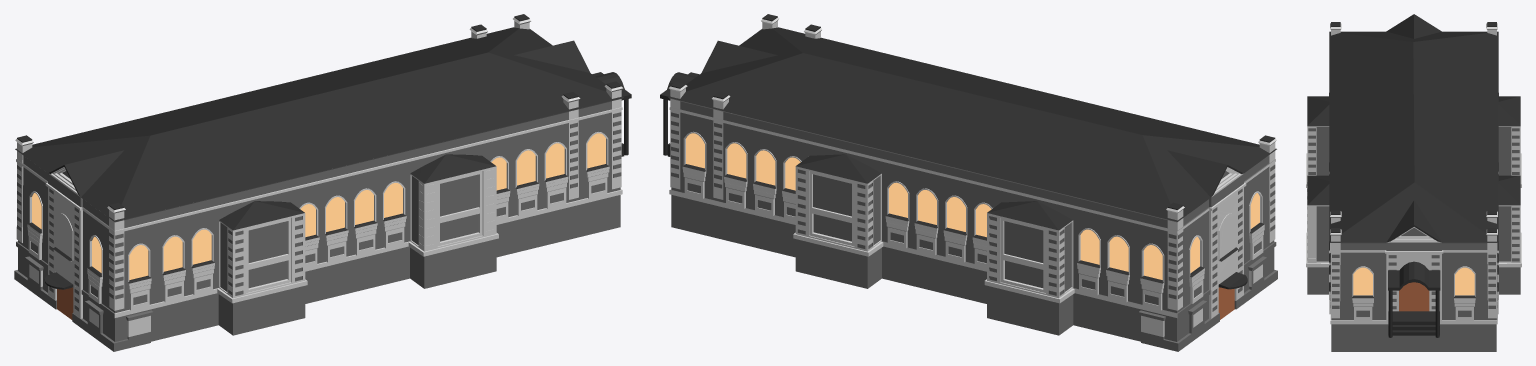
Rendered from manej.gltf.
3 renders of one model, left to right at view 1: azimuth 30°, elevation 25°; view 2: azimuth 150°, elevation 25°; view 3: azimuth 270°, elevation 25°, orthographic. The views are drawn at different scales.
Visible parts, largest first — view 1: Base, Columns, Side Windows 3, Cube.001, Side Windows 2, Small Columns, Side Windows 1, Side Windows 4, Front windows, Bottom Windows, Small Columns.002, Bricks.001 (+4 smaller); view 2: Base, Columns, Side Windows 3, Cube.001, Side Windows 2, Small Columns, Side Windows 1, Side Windows 4, Front windows, Bottom Windows, Small Columns.002, Bricks.001 (+3 smaller); view 3: Base, Columns, Cube.001, Front windows, Small Columns, Cube.005, Stairs, Door, Bricks.001, Cylinder, Bricks, Small Columns.002 (+1 smaller).
Part boxes in pixels (x1,y1,x2,y2): Base: (15, 27, 623, 341); Columns: (217, 154, 498, 335); Side Windows 3: (299, 181, 406, 267); Cube.001: (45, 40, 590, 289); Side Windows 2: (490, 142, 568, 221); Small Columns: (15, 14, 623, 310); Side Windows 1: (128, 132, 609, 310); Side Windows 4: (162, 228, 214, 302); Front windows: (27, 191, 102, 303); Bottom Windows: (14, 256, 116, 351); Small Columns.002: (469, 24, 580, 199); Bricks.001: (17, 112, 621, 299); Base: (668, 27, 1276, 341); Columns: (793, 154, 1074, 335); Side Windows 3: (885, 181, 992, 267); Cube.001: (701, 40, 1246, 289); Side Windows 2: (724, 142, 801, 221); Small Columns: (669, 14, 1276, 310); Side Windows 1: (682, 131, 1164, 310); Side Windows 4: (1077, 228, 1129, 302); Front windows: (1189, 191, 1264, 303); Bottom Windows: (1176, 256, 1277, 351); Small Columns.002: (712, 24, 822, 199); Bricks.001: (671, 112, 1275, 299); Base: (1329, 31, 1498, 351); Columns: (1306, 96, 1521, 294); Cube.001: (1385, 14, 1443, 321); Front windows: (1352, 266, 1475, 321); Small Columns: (1330, 22, 1497, 318); Cube.005: (1388, 261, 1440, 290); Stairs: (1392, 311, 1435, 335); Door: (1399, 282, 1429, 311); Bricks.001: (1330, 253, 1497, 308); Cylinder: (1388, 290, 1439, 337); Bricks: (1388, 255, 1439, 309); Small Columns.002: (1330, 210, 1497, 223).
Bounding box in the file's own units: 57.49 × 15.36 × 22.25.
